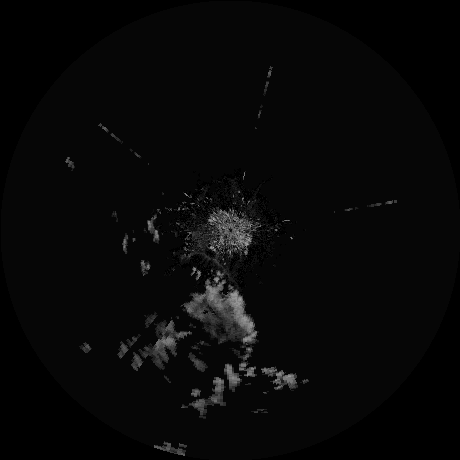frontgust: (195, 250, 237, 285)
